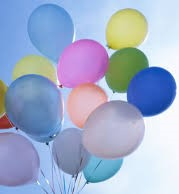Balloon: (83, 101, 146, 159), (5, 73, 62, 131), (27, 4, 74, 60), (57, 39, 108, 87), (127, 67, 176, 116), (1, 133, 41, 188), (107, 8, 149, 49), (53, 129, 87, 174)
